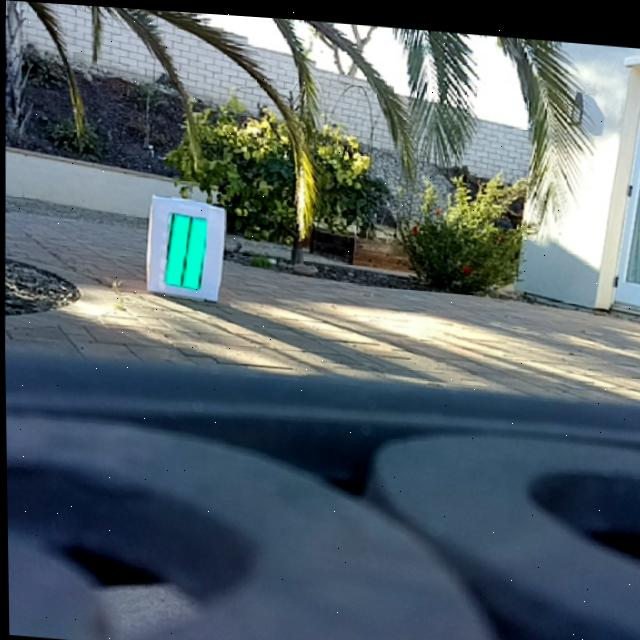led: (172, 212, 206, 291)
